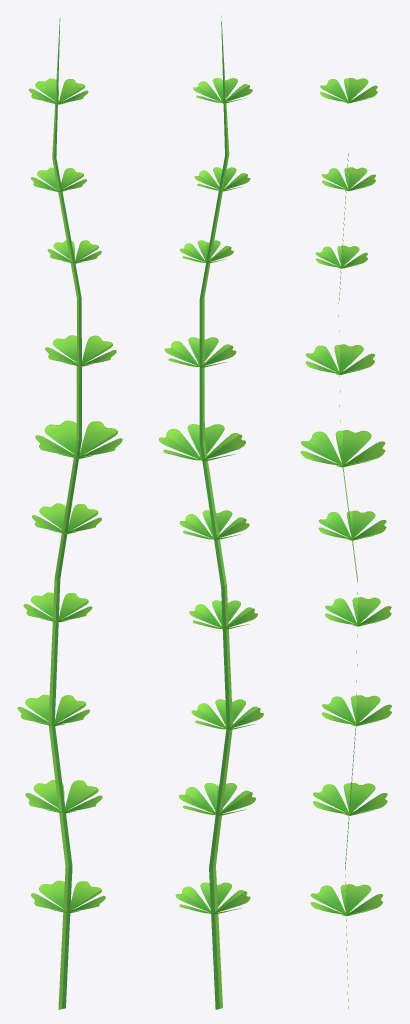
3 views of the same model, side by side, from view 1: azimuth 30°, elevation 25°; view 2: azimuth 210°, elevation 25°; view 3: azimuth 270°, elevation 25° (orthographic).
Visible parts, largest first — view 1: wk_s02_55; view 2: wk_s02_55; view 3: wk_s02_55.
Boxes of the visible parts, x1=… form: wk_s02_55: x1=17, y1=18, x2=122, y2=1009; wk_s02_55: x1=159, y1=16, x2=263, y2=1009; wk_s02_55: x1=300, y1=78, x2=391, y2=1008.
Bounding box in the file's own units: 2.08 × 1.73 × 18.84.
